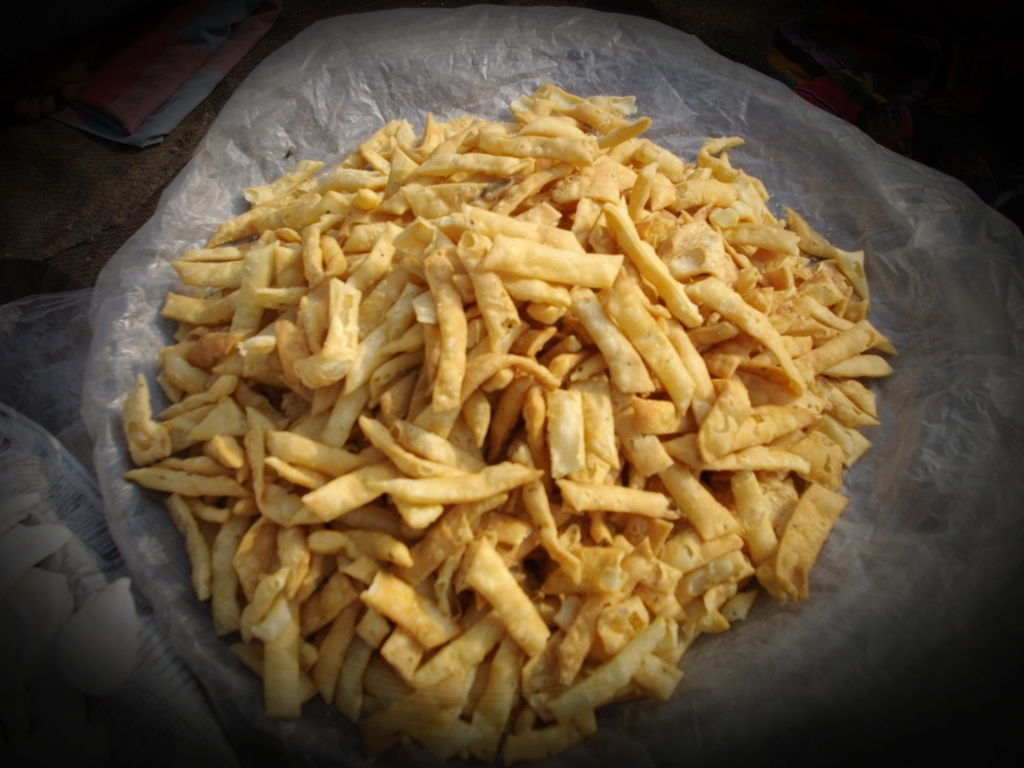French fries: (145, 97, 846, 722)
